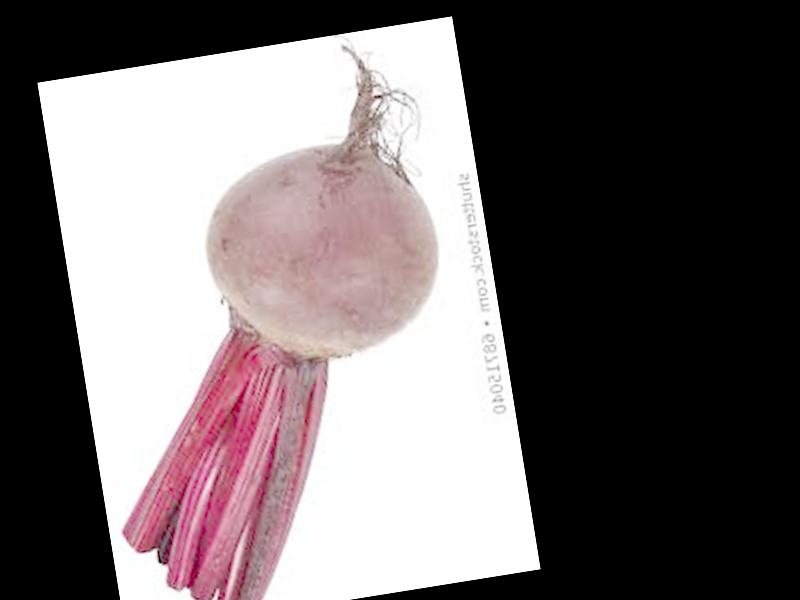Beet: (54, 35, 487, 600)
